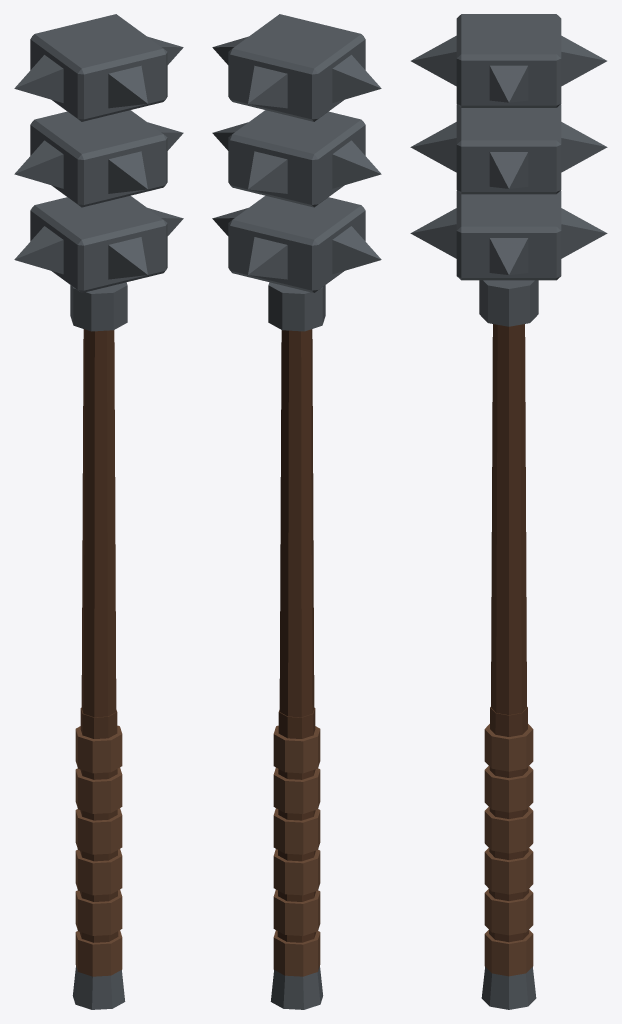
File: Weapon_07.glb
3 views of the same model, side by side, from view 1: azimuth 30°, elevation 25°; view 2: azimuth 150°, elevation 25°; view 3: azimuth 270°, elevation 25° (orthographic).
Parts seen in each view (by area): view 1: Weapon_07; view 2: Weapon_07; view 3: Weapon_07.
Part boxes in pixels (<box>): Weapon_07: <box>14,14,183,1009</box>; Weapon_07: <box>212,14,381,1009</box>; Weapon_07: <box>410,14,607,1009</box>.
Bounding box in the file's own units: 0.166 × 0.895 × 0.166.
